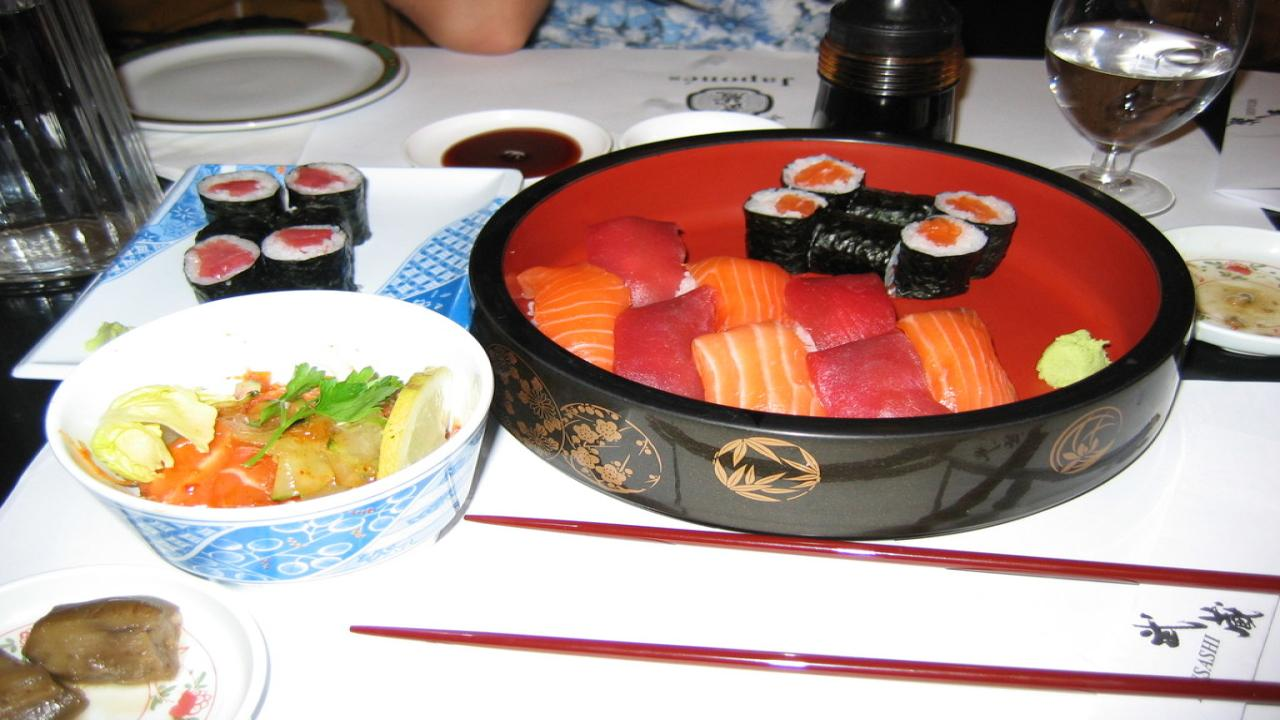chopstick: (347, 625, 1280, 705), (458, 511, 1280, 600)
